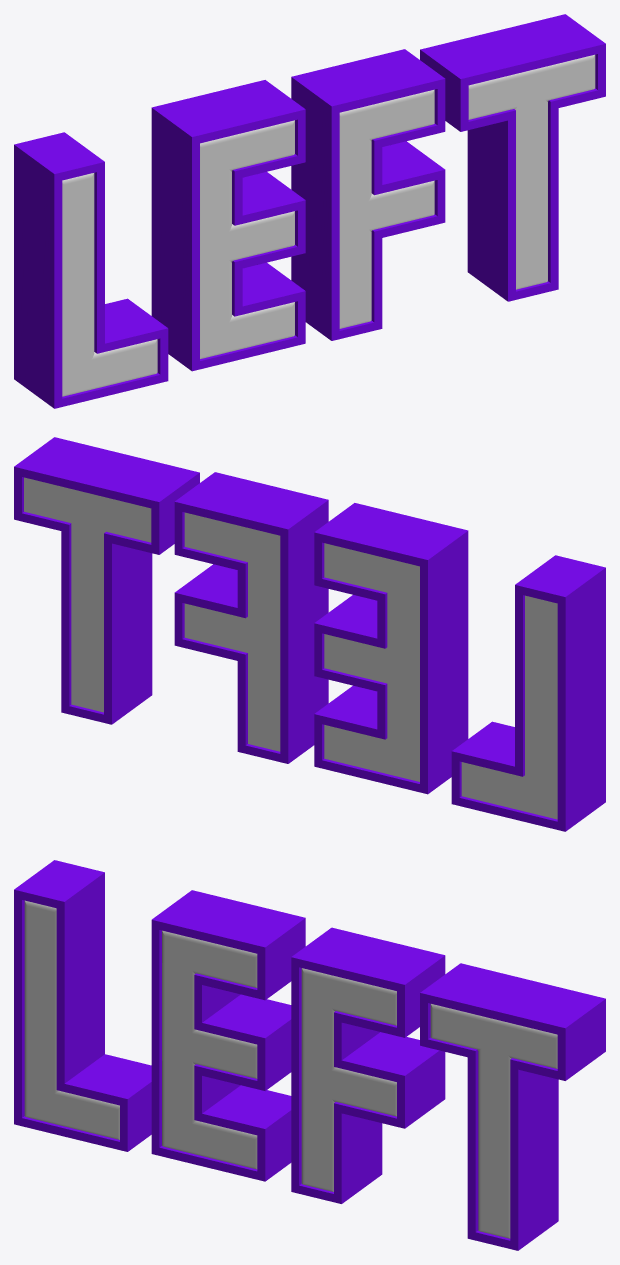
Rendered from Left3DText.fbx.
The picture shows the model from 3 angles, top to bottom: view 1: azimuth 30°, elevation 25°; view 2: azimuth 150°, elevation 25°; view 3: azimuth 330°, elevation 25°; orthographic projection.
Parts seen in each view (by area): view 1: Extrusion Model.000, Extrusion Model; view 2: Extrusion Model.000, Extrusion Model; view 3: Extrusion Model.000, Extrusion Model.
Part boxes in pixels (left/top/right/bottom): Extrusion Model.000: left=14, top=14, right=605, bottom=408; Extrusion Model: left=62, top=54, right=595, bottom=396; Extrusion Model.000: left=14, top=437, right=605, bottom=831; Extrusion Model: left=24, top=477, right=557, bottom=819; Extrusion Model.000: left=14, top=860, right=605, bottom=1250; Extrusion Model: left=24, top=900, right=557, bottom=1238.
Bounding box in the file's own units: 37.49 × 15.71 × 4.77.
